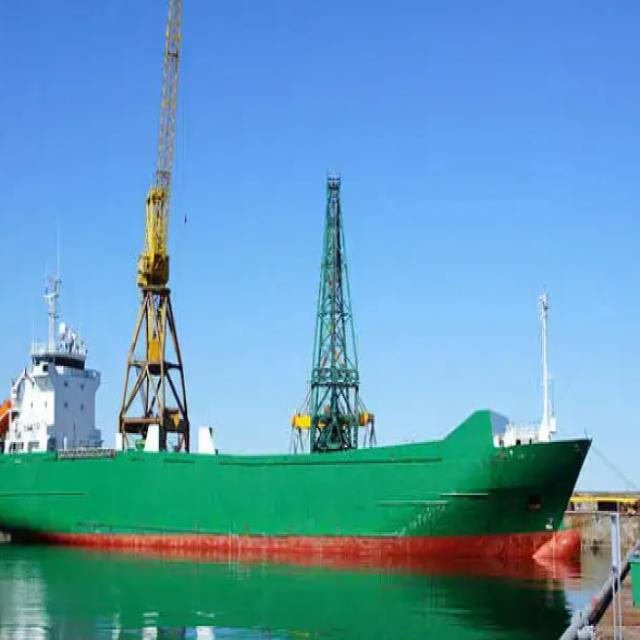cargoship: (0, 186, 593, 576)
